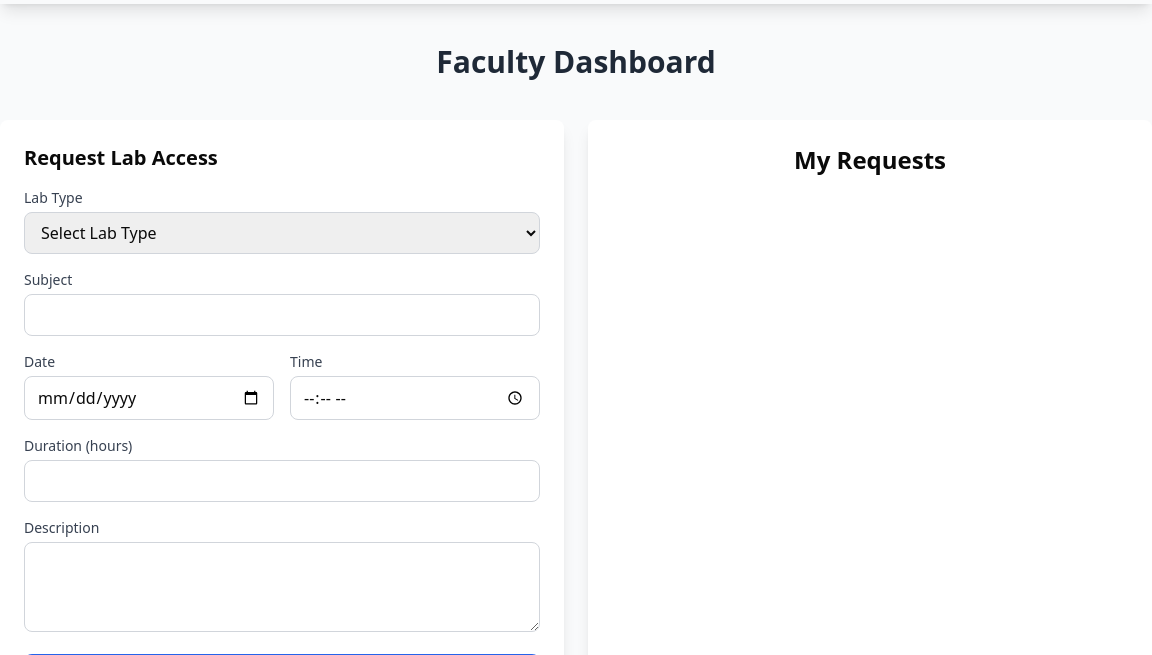
Test: Lab Booking System › allows successful lab booking
Select "Hardware Lab" in the dropdown at (282, 233), box [24,212,540,254]
Type "Electronics" into the field.
click(282, 315); type("Electronics")  # box [24,294,540,336]
Type "2025-04-05" into the date field.
click(149, 398); type("2025-04-05")  # box [24,376,274,420]
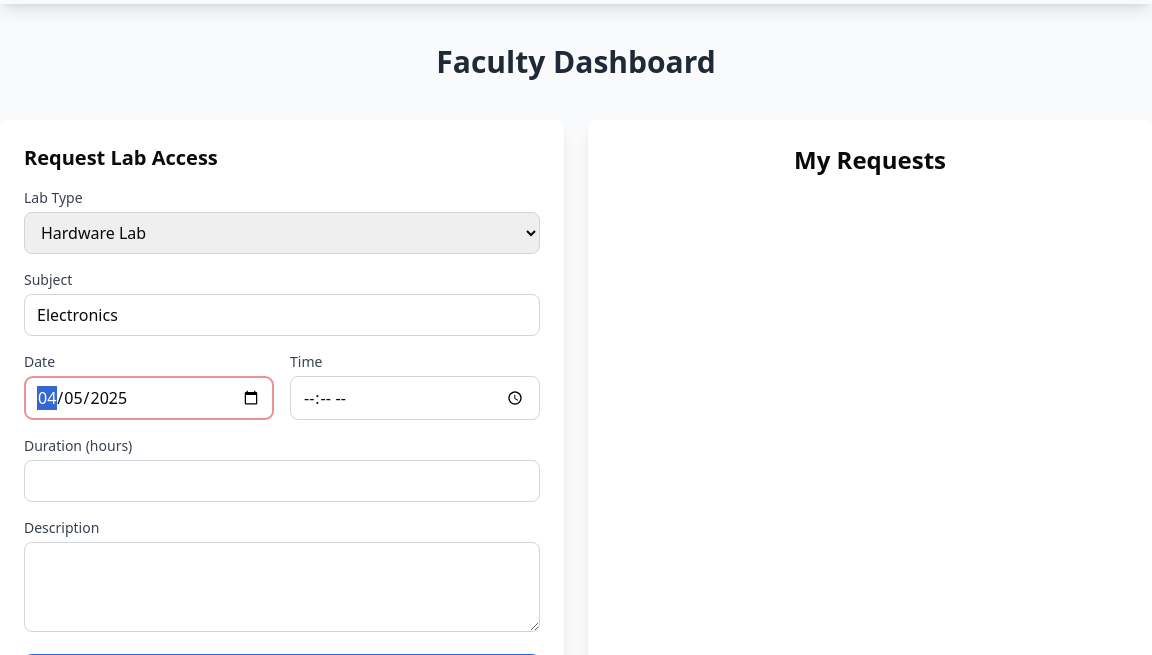
Type "14:00" into the time field.
click(415, 398); type("14:00")  # box [290,376,540,420]
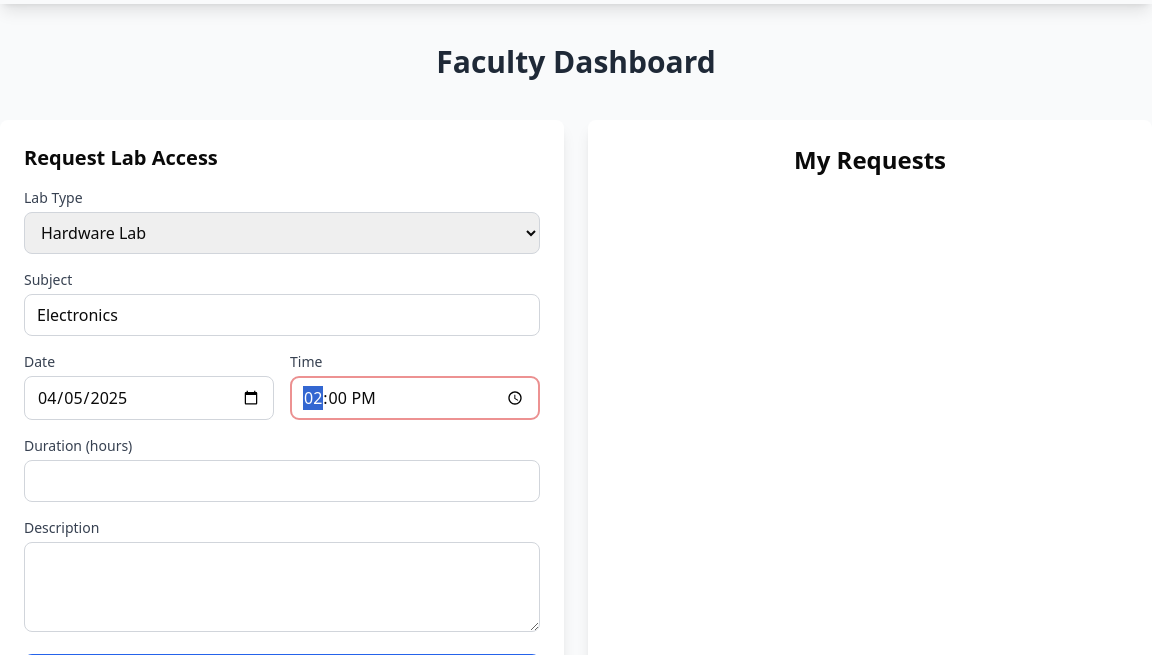
Type "3" into the number field.
click(282, 481); type("3")  # box [24,460,540,502]
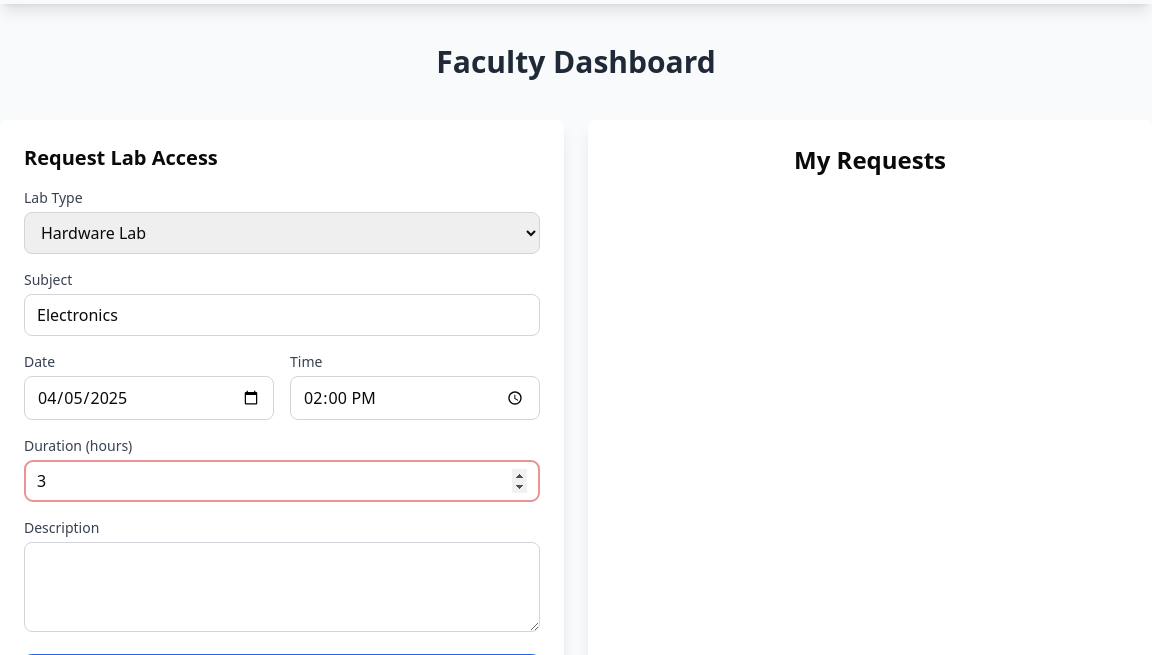
Type "Valid lab booking" into the text box.
click(282, 587); type("Valid lab booking")  # box [24,542,540,632]
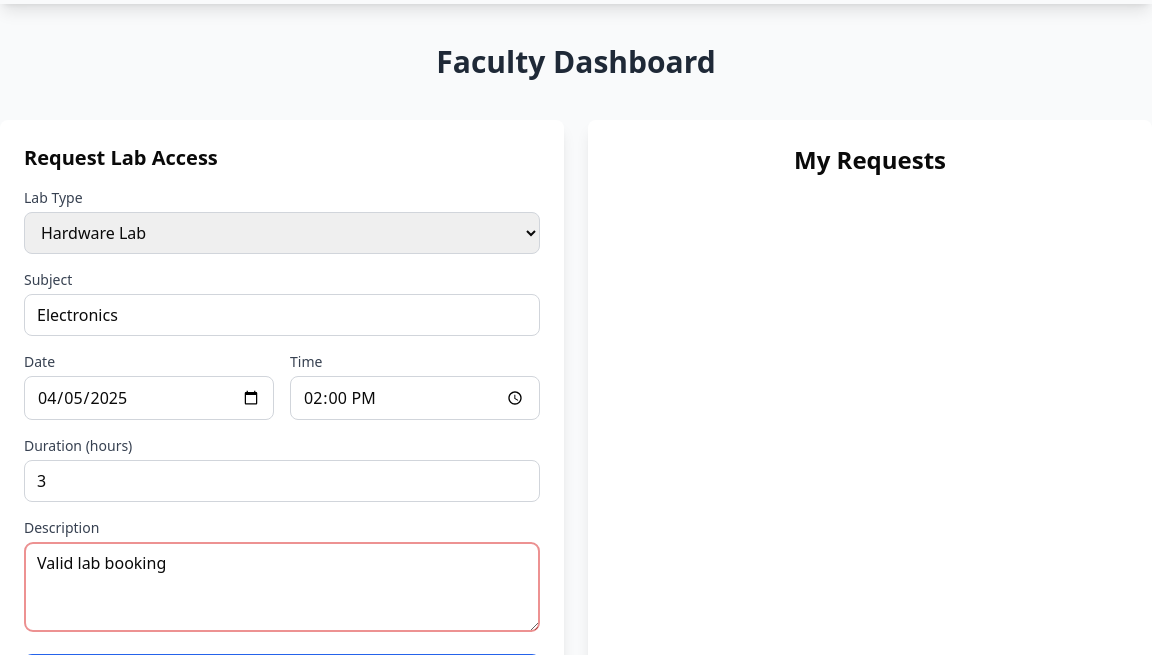
Scroll
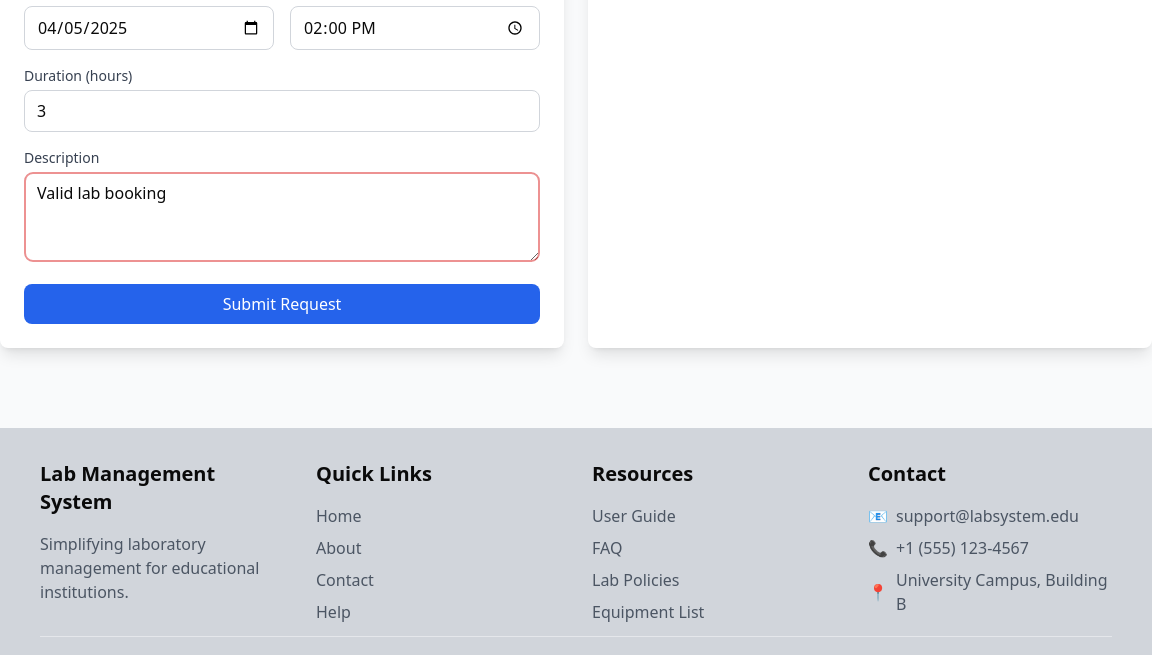
Click the submit button.
click(282, 304)  # box [24,284,540,324]
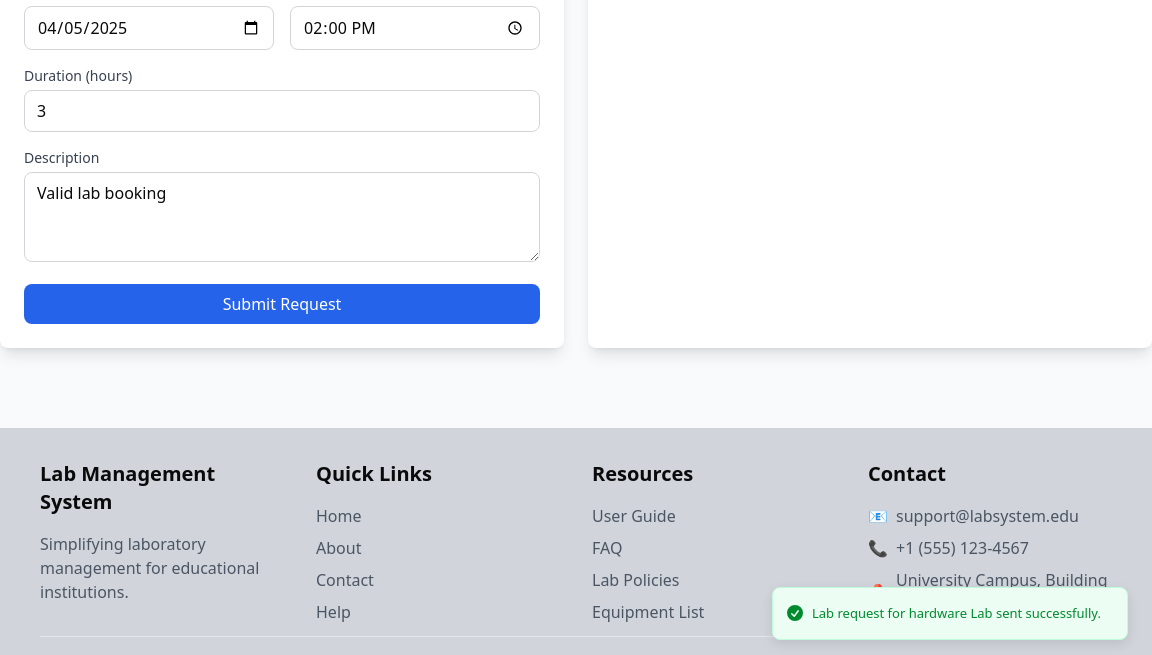
Expected: the text "Lab request for hardware Lab sent successfully." is shown, [812,604,1101,623]
